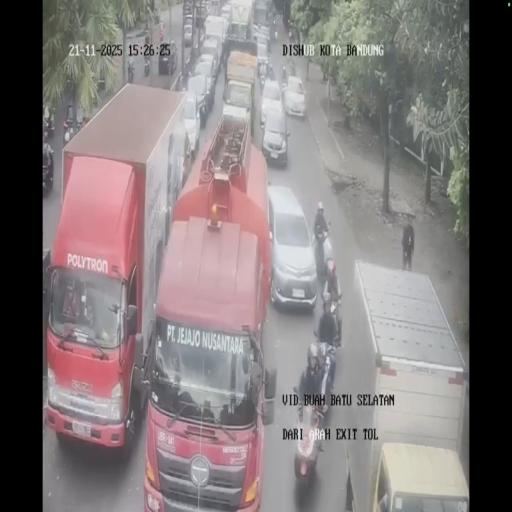3: (46, 82, 191, 454), (253, 0, 272, 33), (194, 0, 208, 28)
car: (267, 186, 317, 312), (260, 102, 289, 166), (187, 64, 215, 126), (283, 74, 306, 118), (203, 30, 223, 71), (158, 39, 177, 75), (255, 37, 269, 80), (220, 3, 232, 28), (183, 22, 193, 45)
truck: (126, 56, 134, 82), (266, 62, 274, 80), (144, 55, 150, 77)
